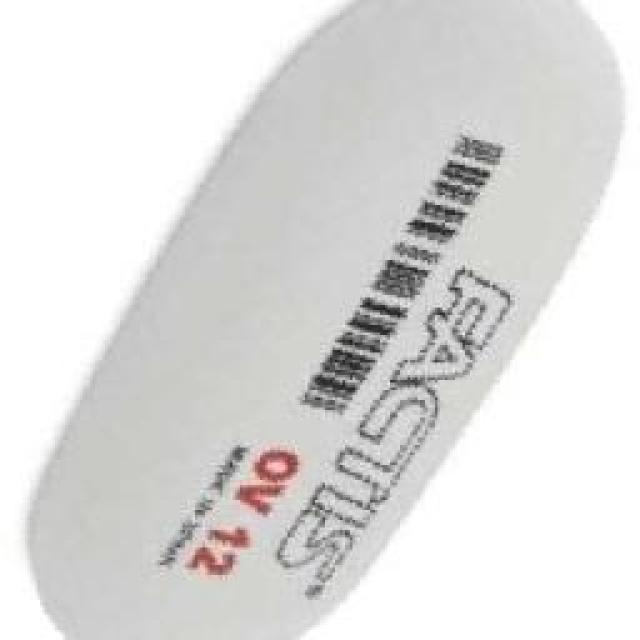Silgi: (29, 1, 628, 640)
